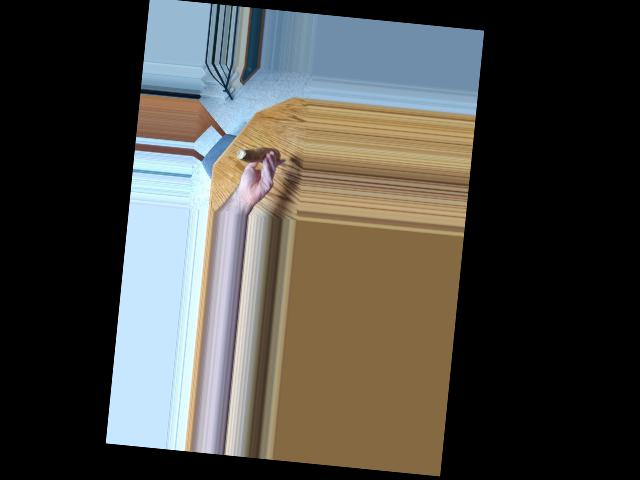sweet_potato: (237, 142, 275, 169)
